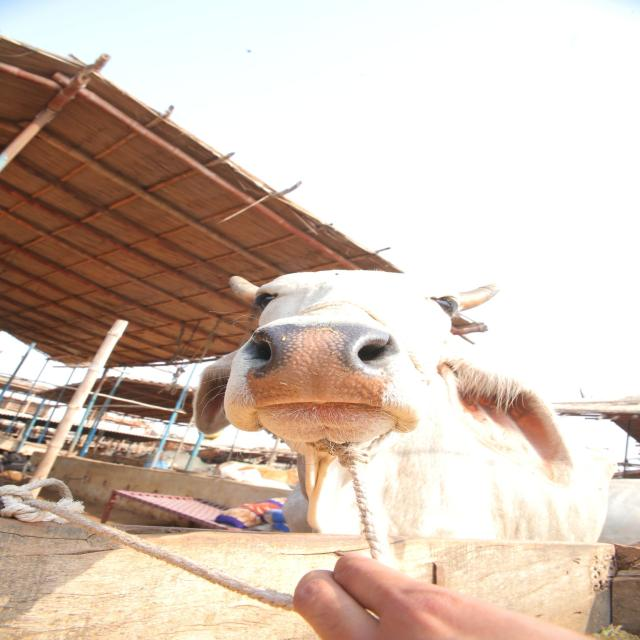muzzles: (235, 316, 400, 418)
